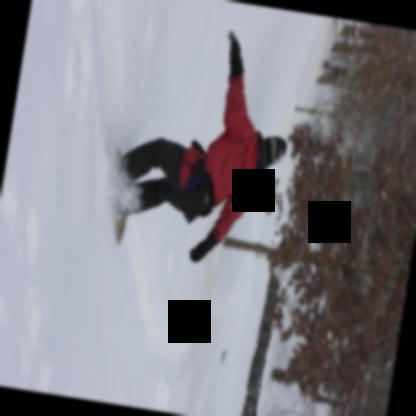backpack: (178, 164, 211, 225)
